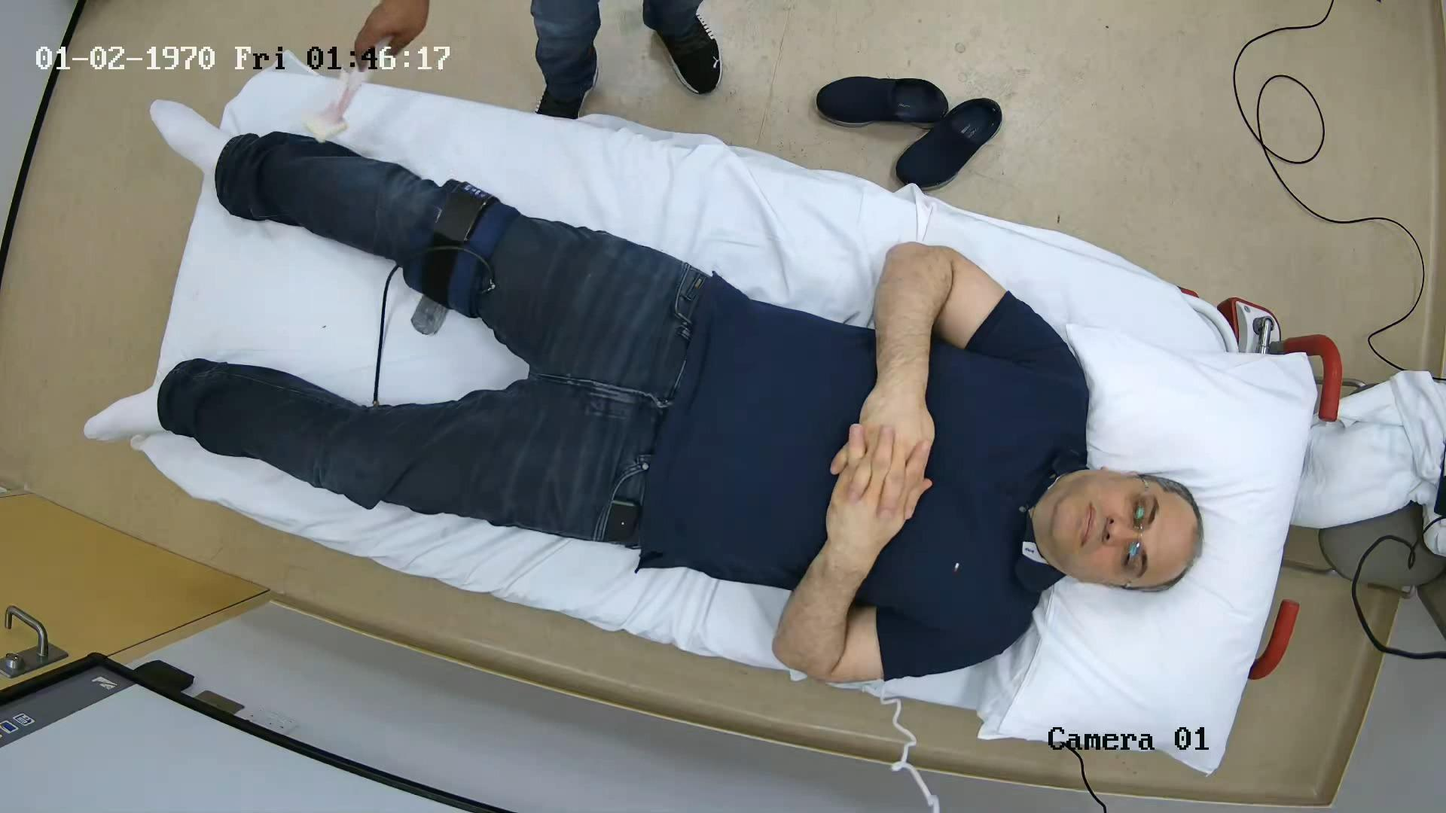bed: (134, 61, 1341, 772)
patient: (158, 132, 1201, 682)
prepstick: (304, 68, 367, 141)
tourniquet: (404, 180, 521, 317)
